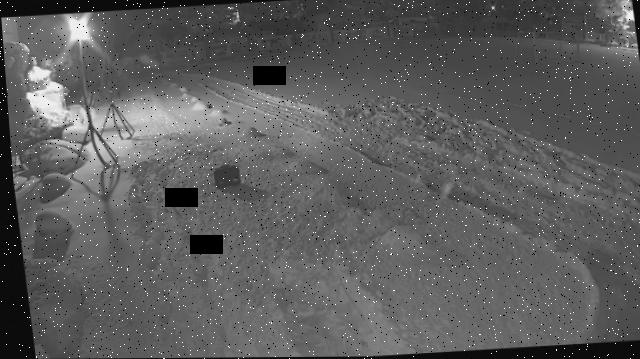bag: (210, 164, 239, 188)
